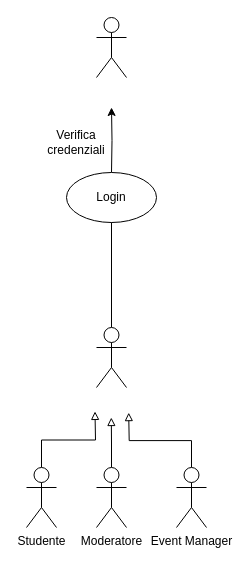
This 249x566 diagram has some shape labels left out. Here are the shapes that lost their labels. From the top down, the box of each, then its label:
(96, 16, 126, 78): Università
(96, 326, 126, 388): Utente
